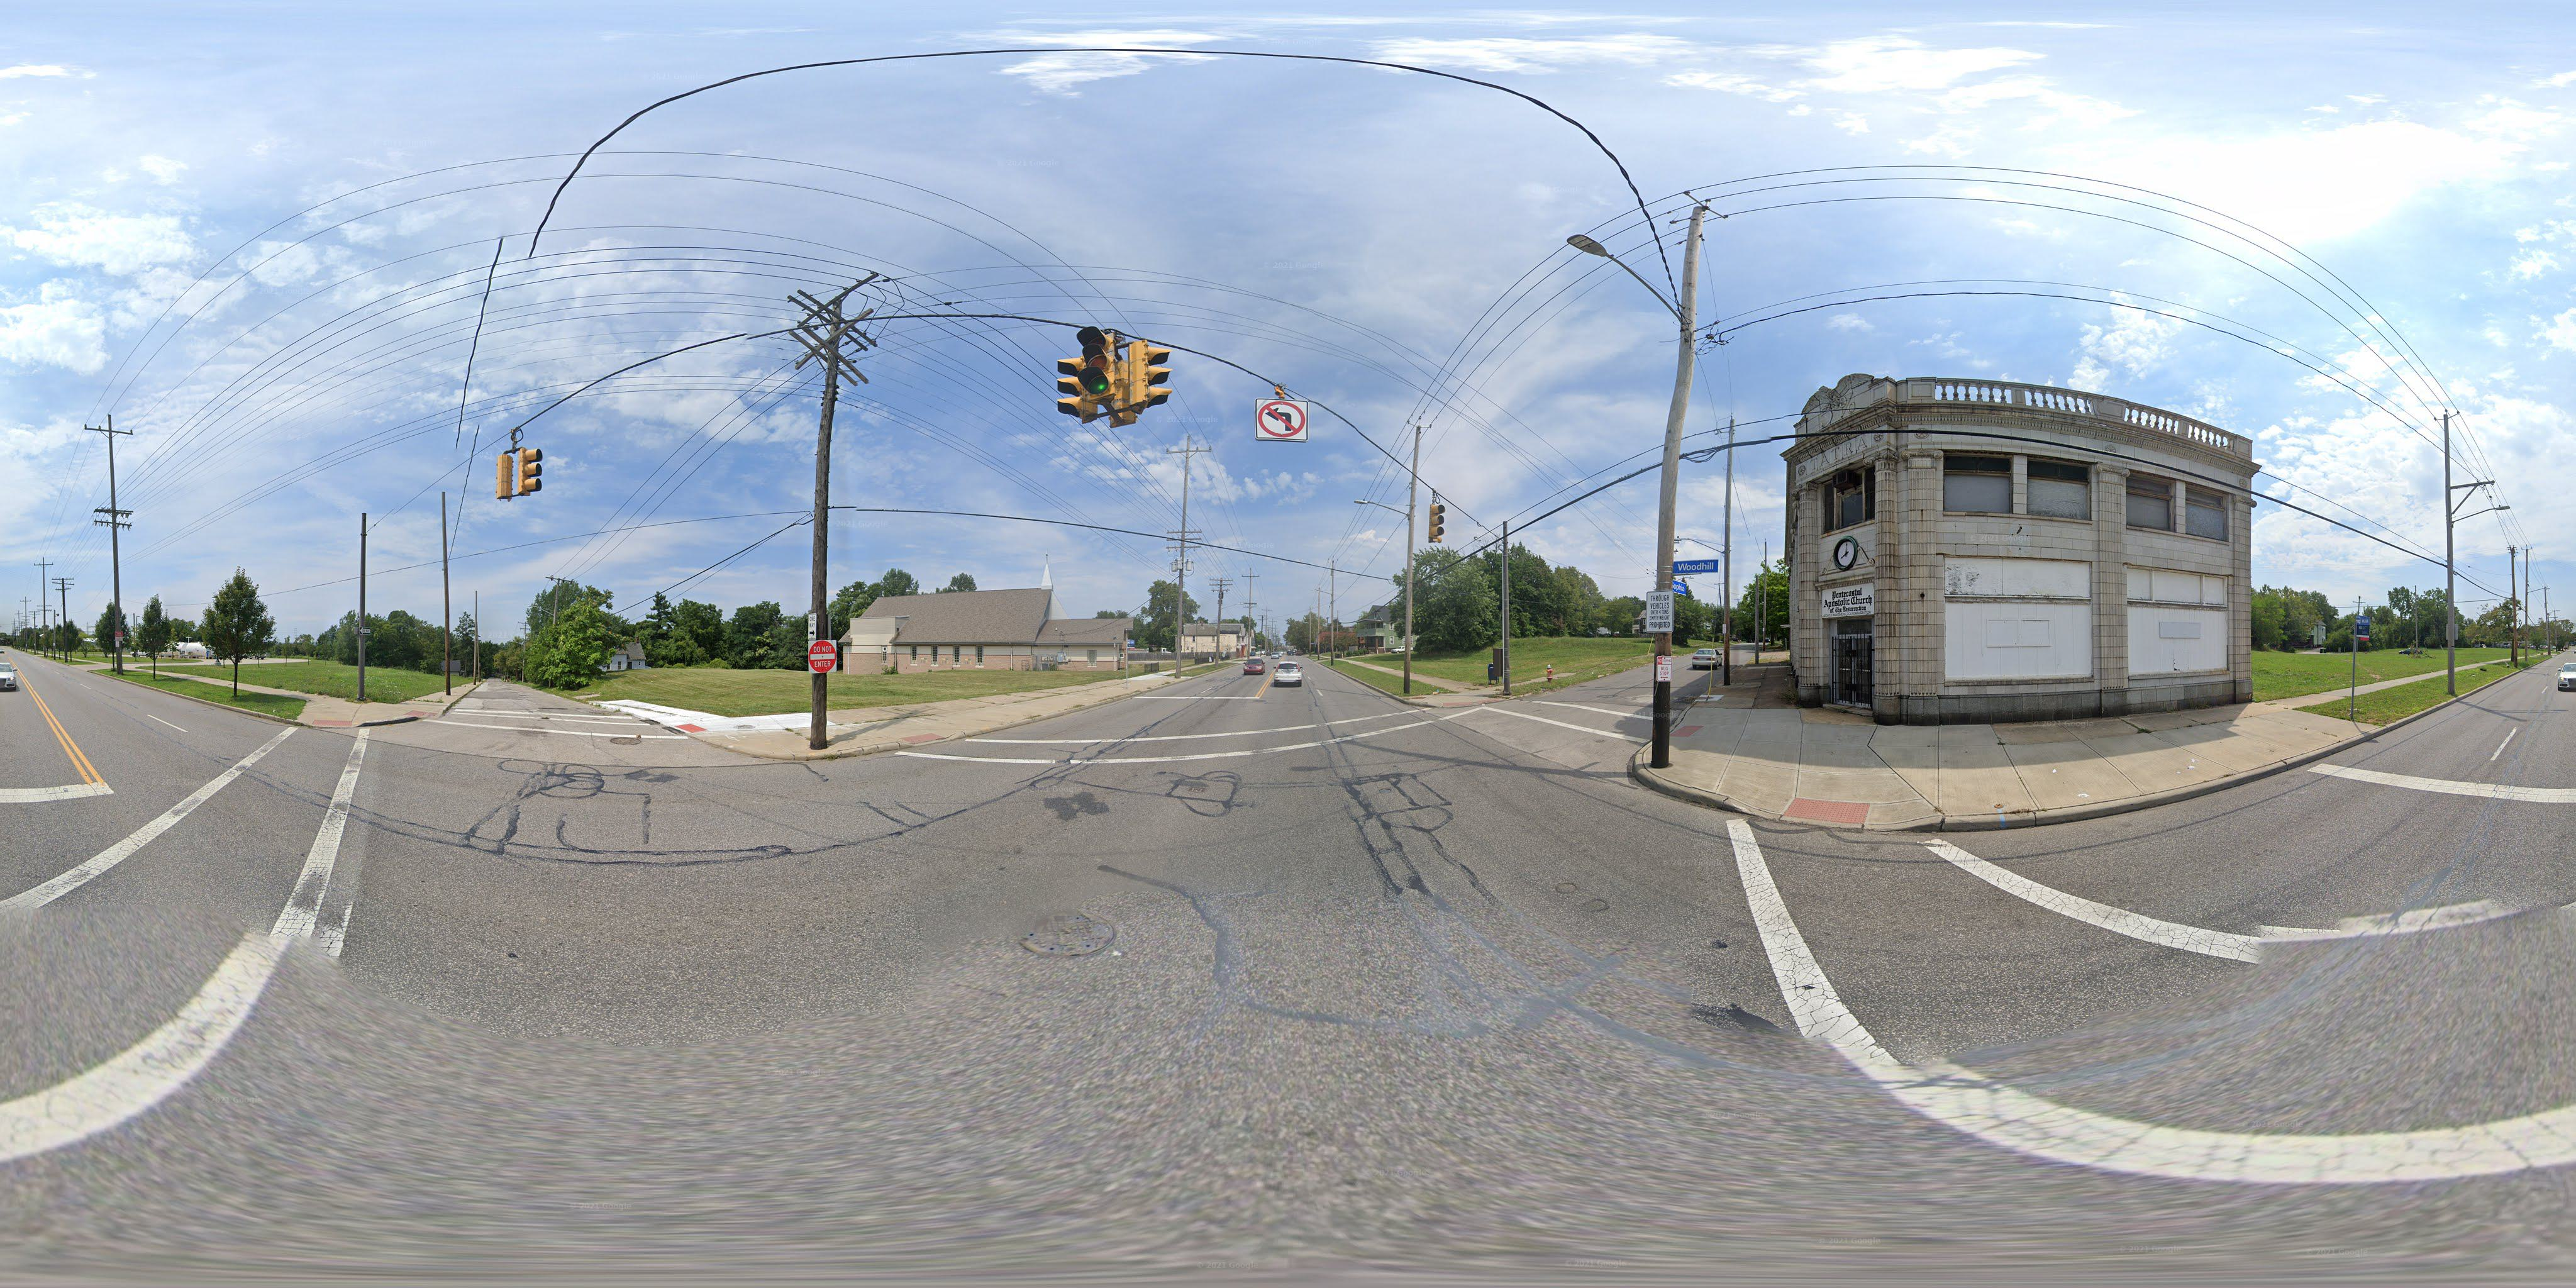Curb Ramp: (1748, 767, 1889, 866), (1426, 692, 1508, 716), (1663, 706, 1704, 754), (885, 729, 959, 754), (304, 708, 352, 734)
Irregular Ramp: (659, 718, 703, 741), (411, 706, 444, 724)
